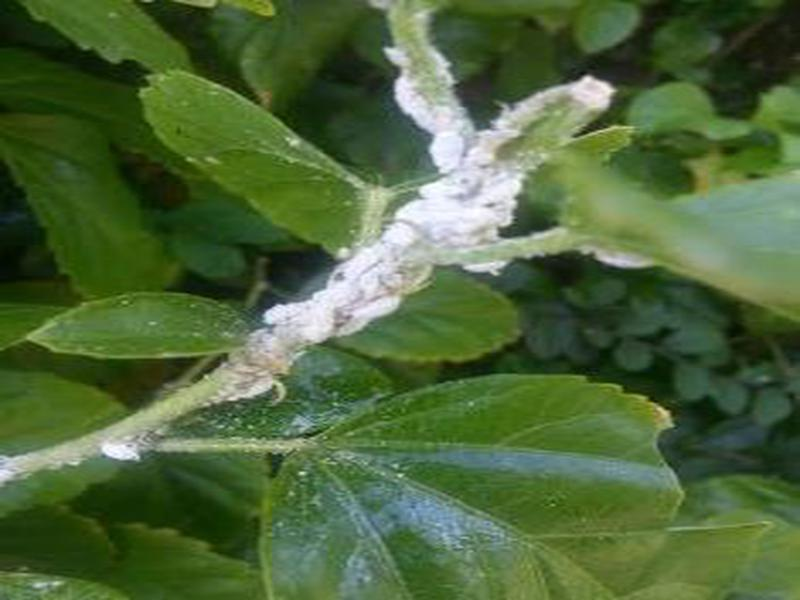Mealy_bug: (223, 75, 628, 387)
